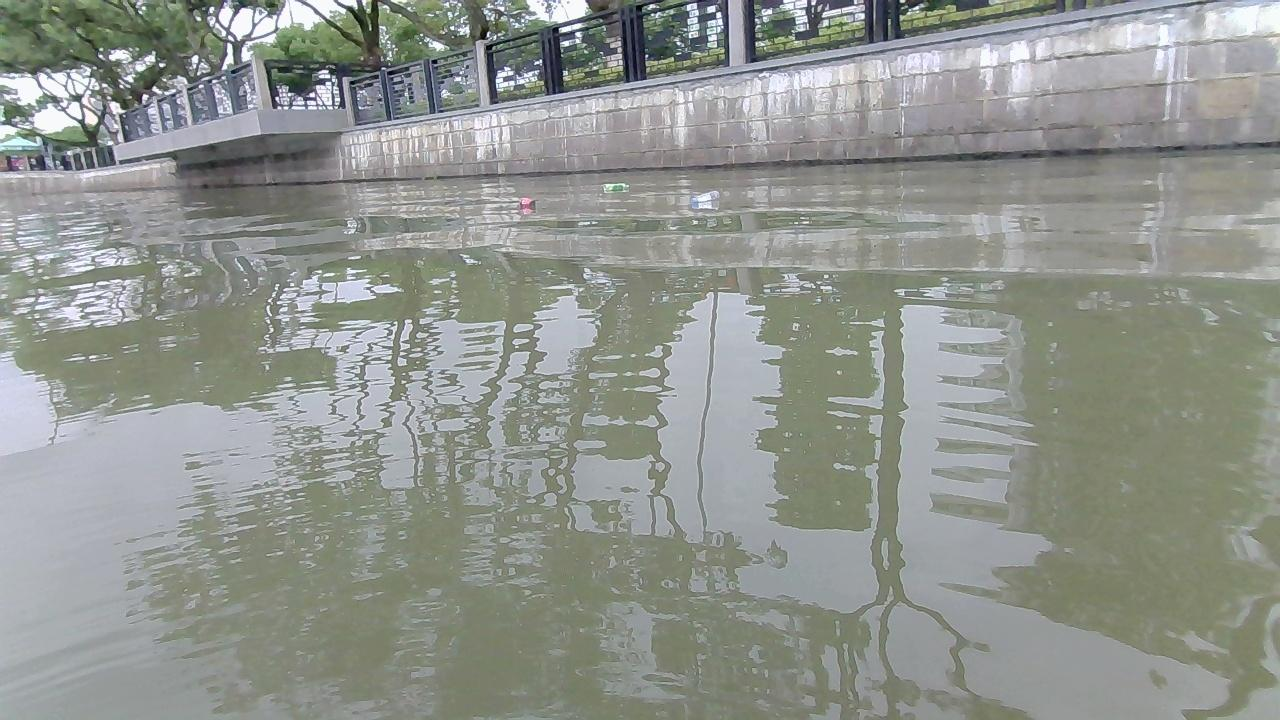bottle: (690, 190, 722, 202), (600, 179, 627, 193), (511, 195, 534, 209)
